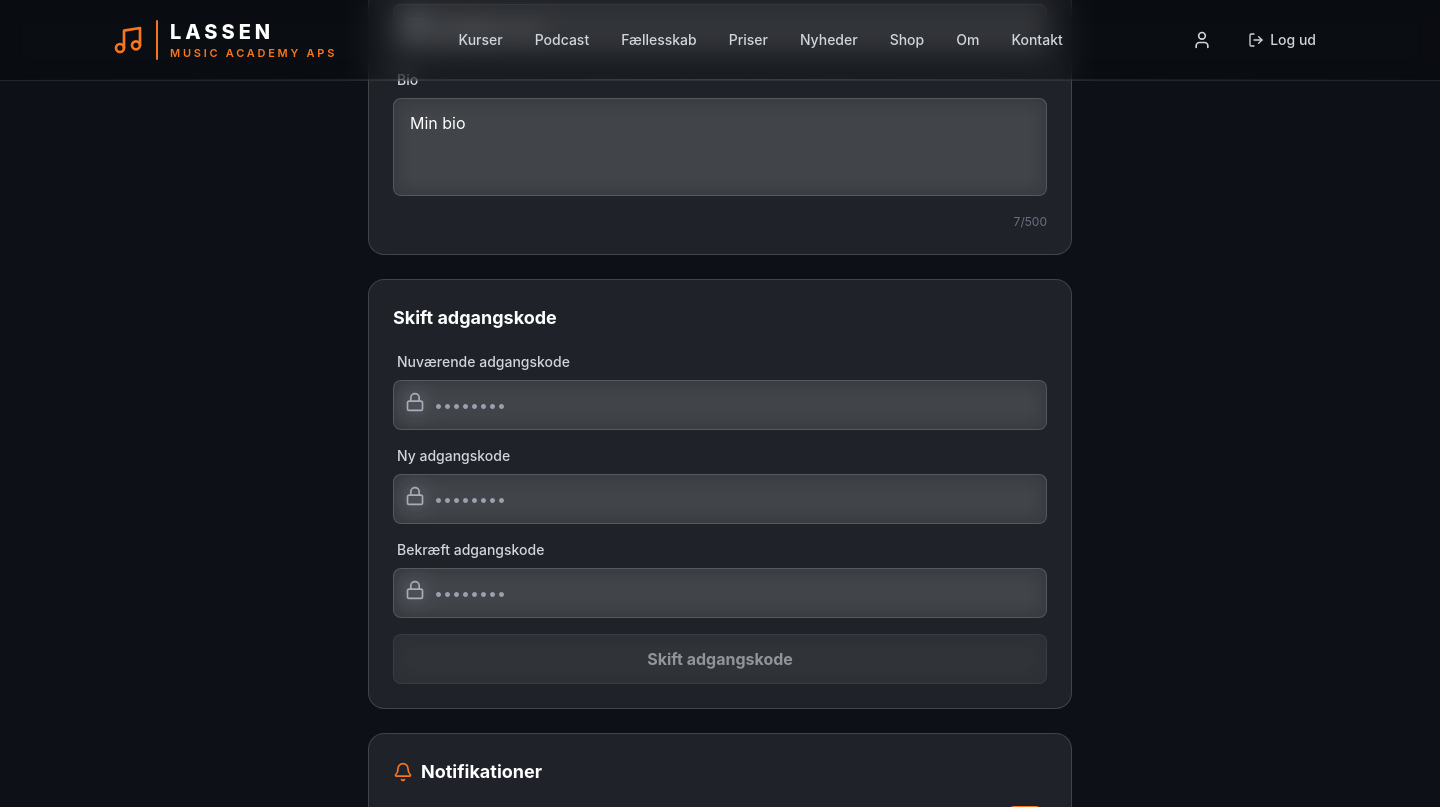
Scenario: MyProfile Page › Password change › rejects mismatched new passwords
The image size is (1440, 807).
(page scrolled)
In the password field with placeholder "••••••••" below "Nuværende adgangskode": (720, 405) [393, 380, 1047, 430], type "oldpassword"
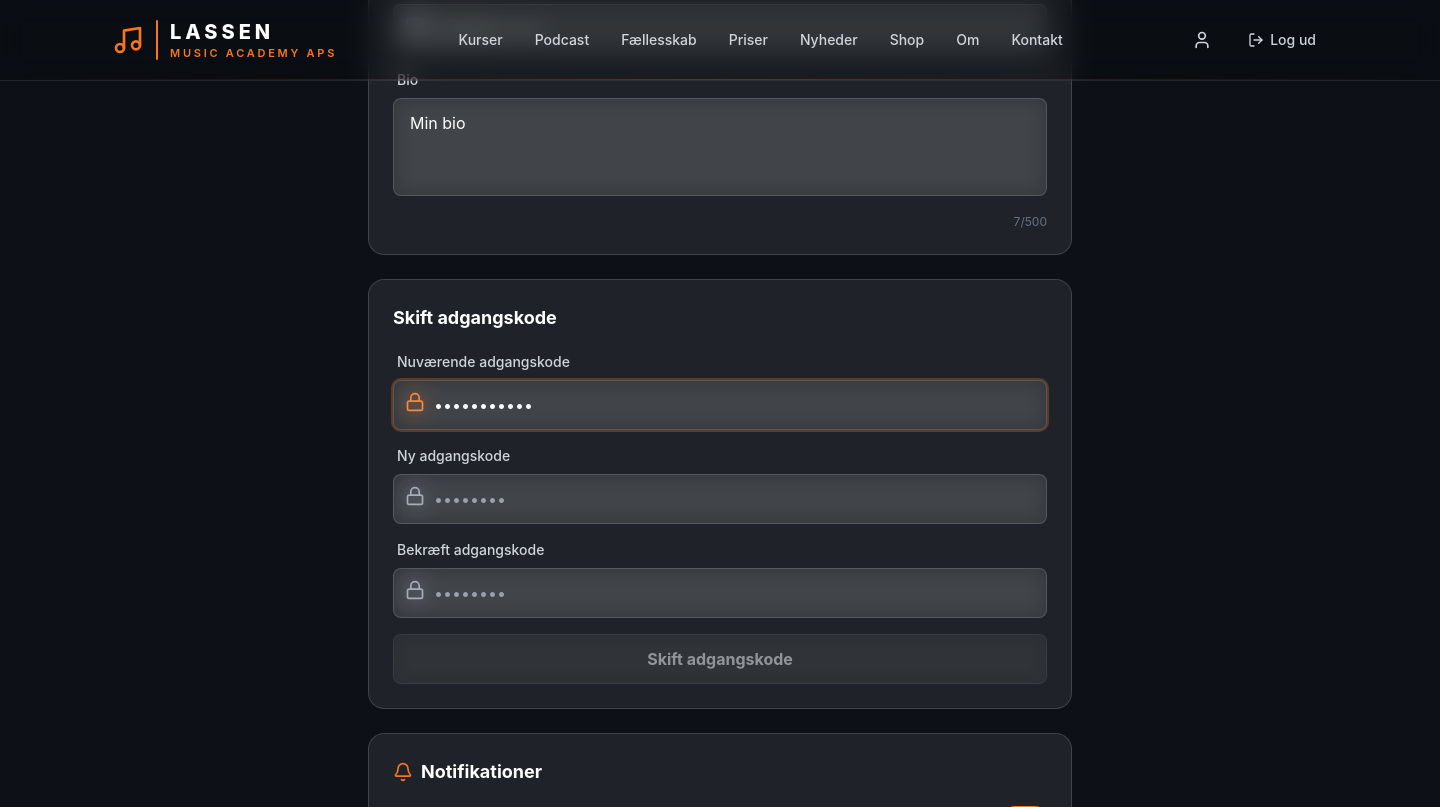
In the password field with placeholder "••••••••" below "Ny adgangskode": (720, 499) [393, 474, 1047, 524], type "longenough1"
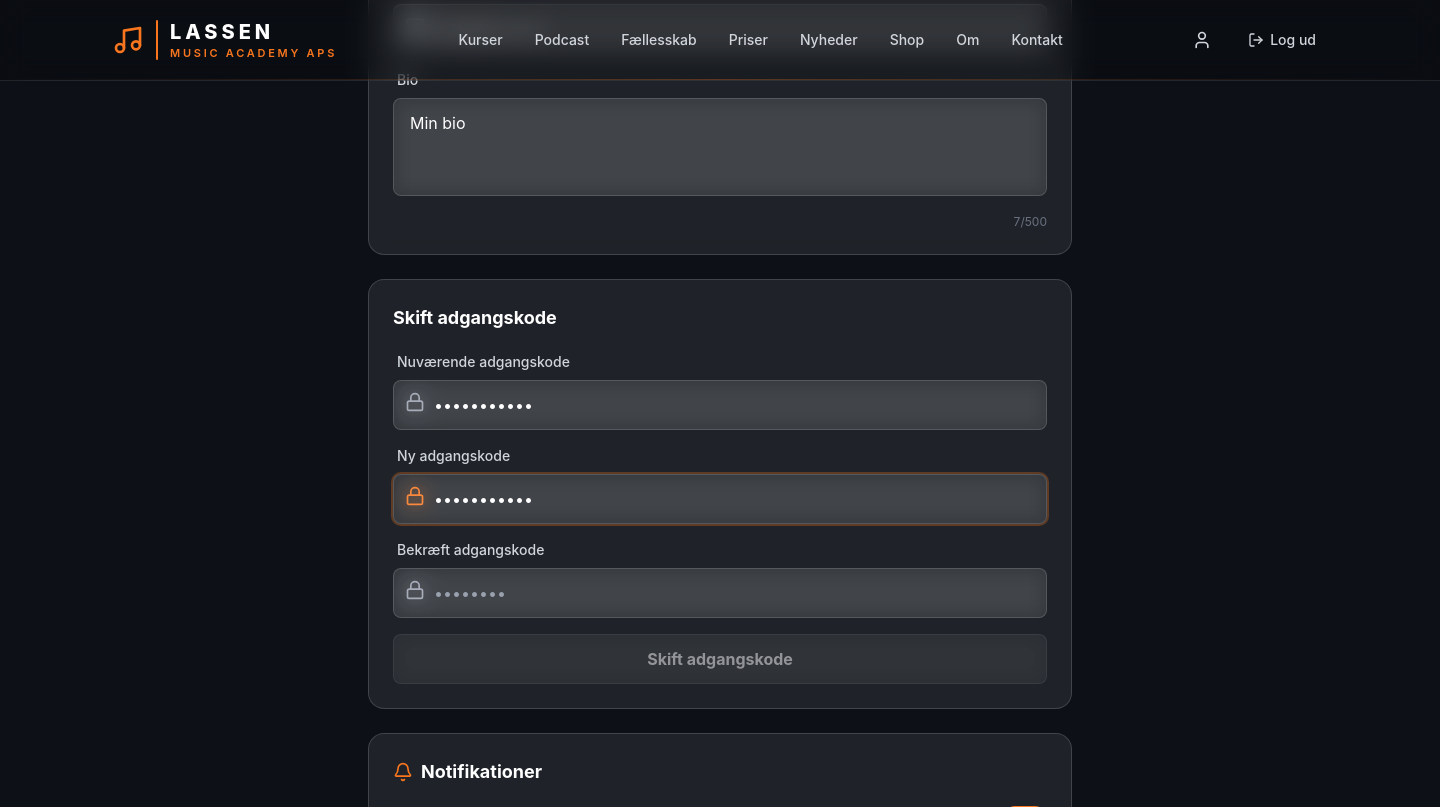
In the password field with placeholder "••••••••": (720, 593) [393, 568, 1047, 618], type "longenough2"
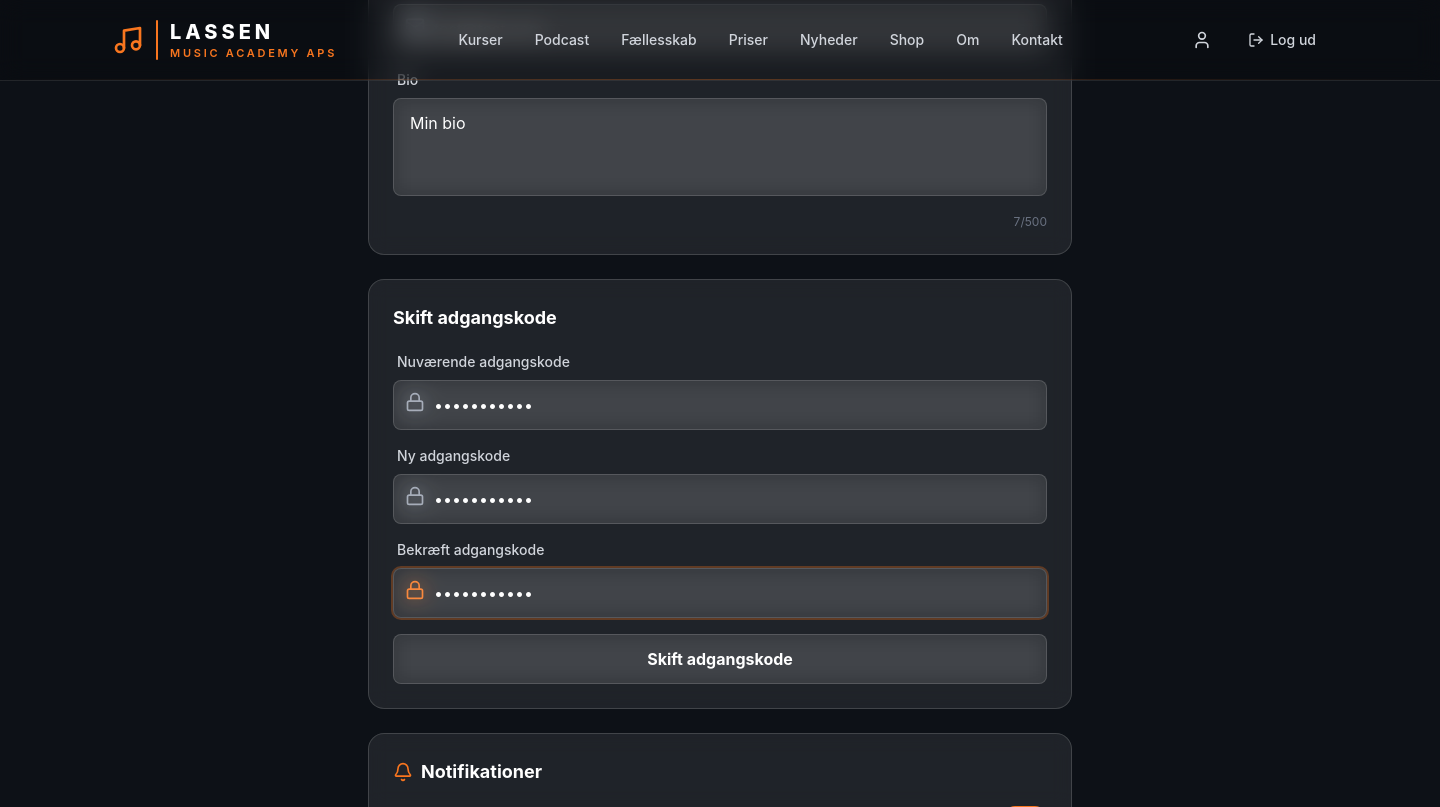
Click the button "Skift adgangskode": (720, 659) [393, 634, 1047, 684]
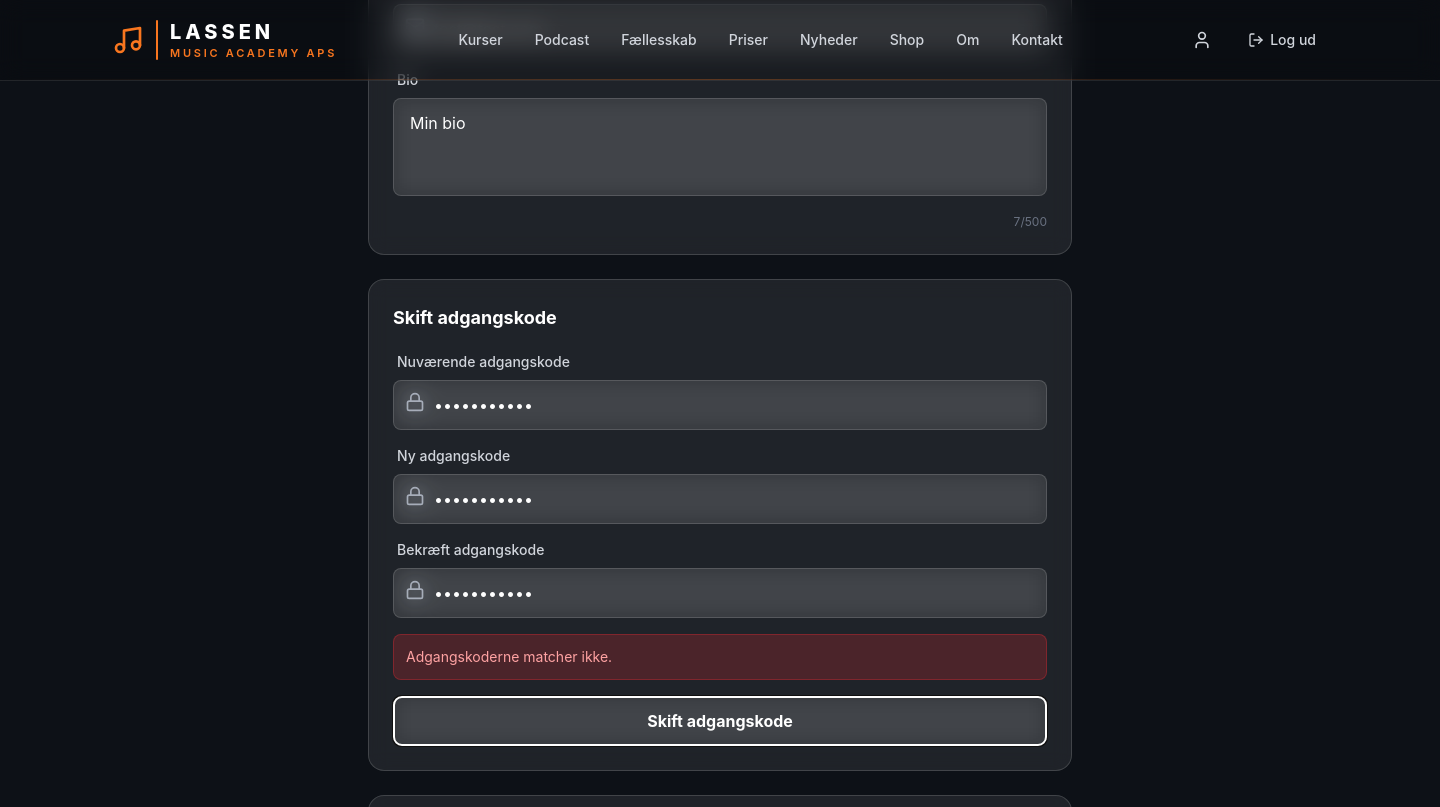
Check: the text "Adgangskoderne matcher ikke." is shown, box [393, 634, 1047, 680]
